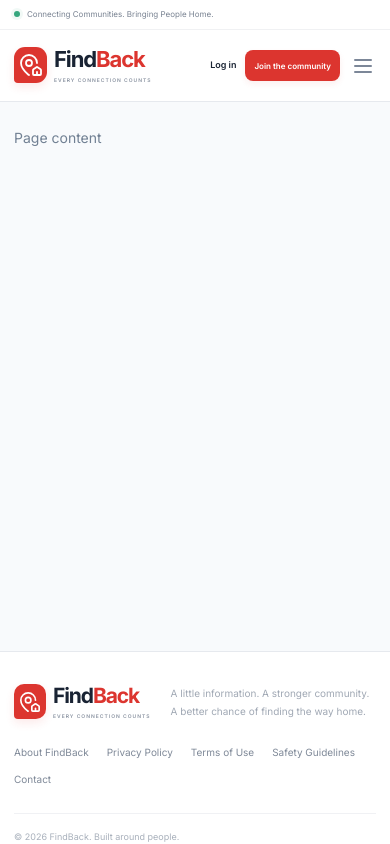
Test: FindBack client workflows › renders navigation, working destinations, and mobile control
This screenshot has width=390, height=844.
Click the button named "Open navigation" at (362, 66), box [349,48,376,84]
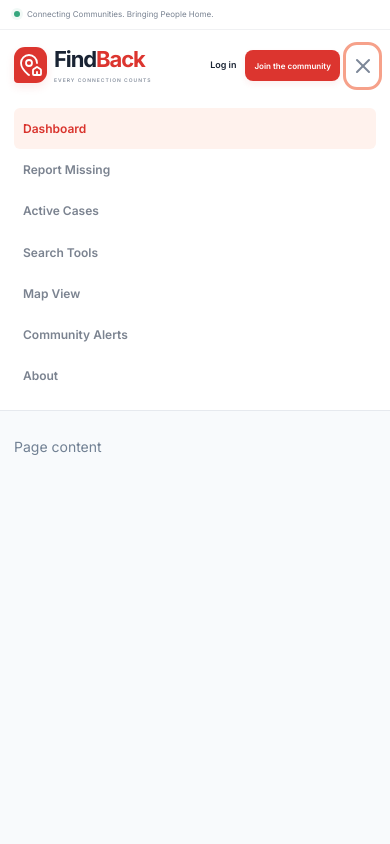
Now the button named "Close navigation" is expanded, box [349,48,376,84]
